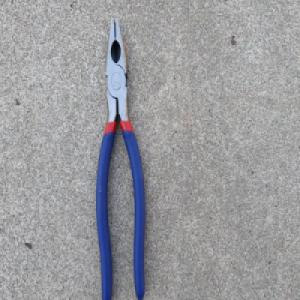Pliers: (95, 14, 148, 300)
